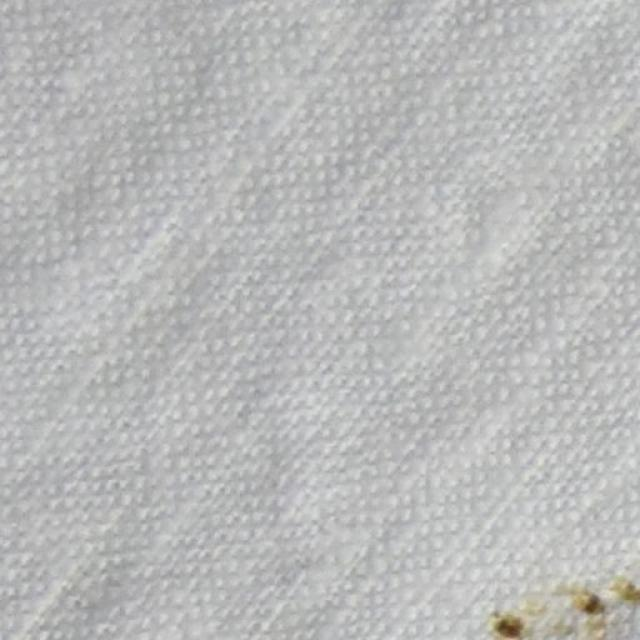Stain: (451, 545, 639, 639)
